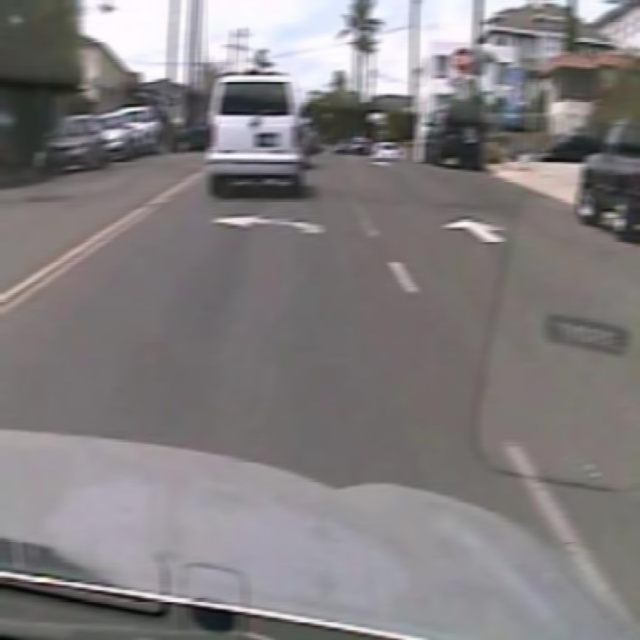stop: (452, 46, 471, 74)
